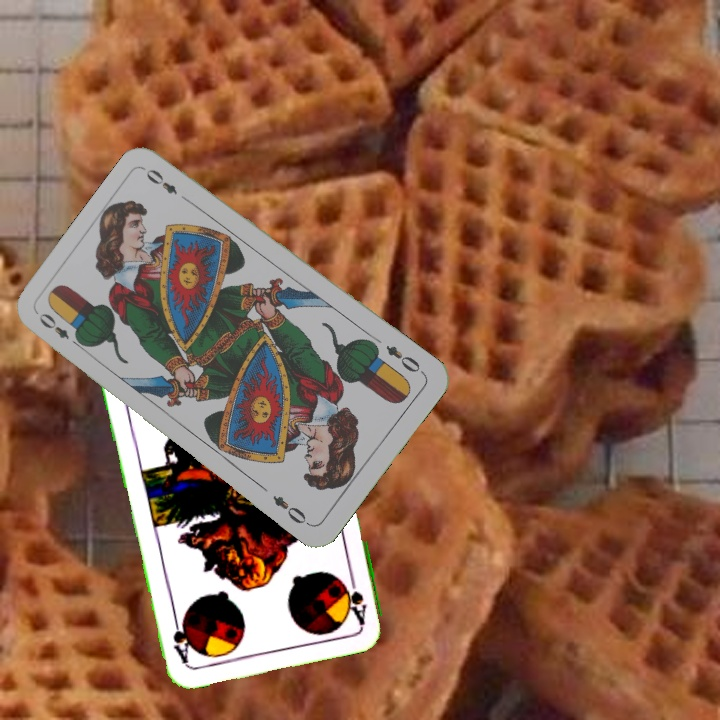EO: (34, 309, 86, 351), (381, 341, 427, 377)
SA: (341, 567, 370, 626)
